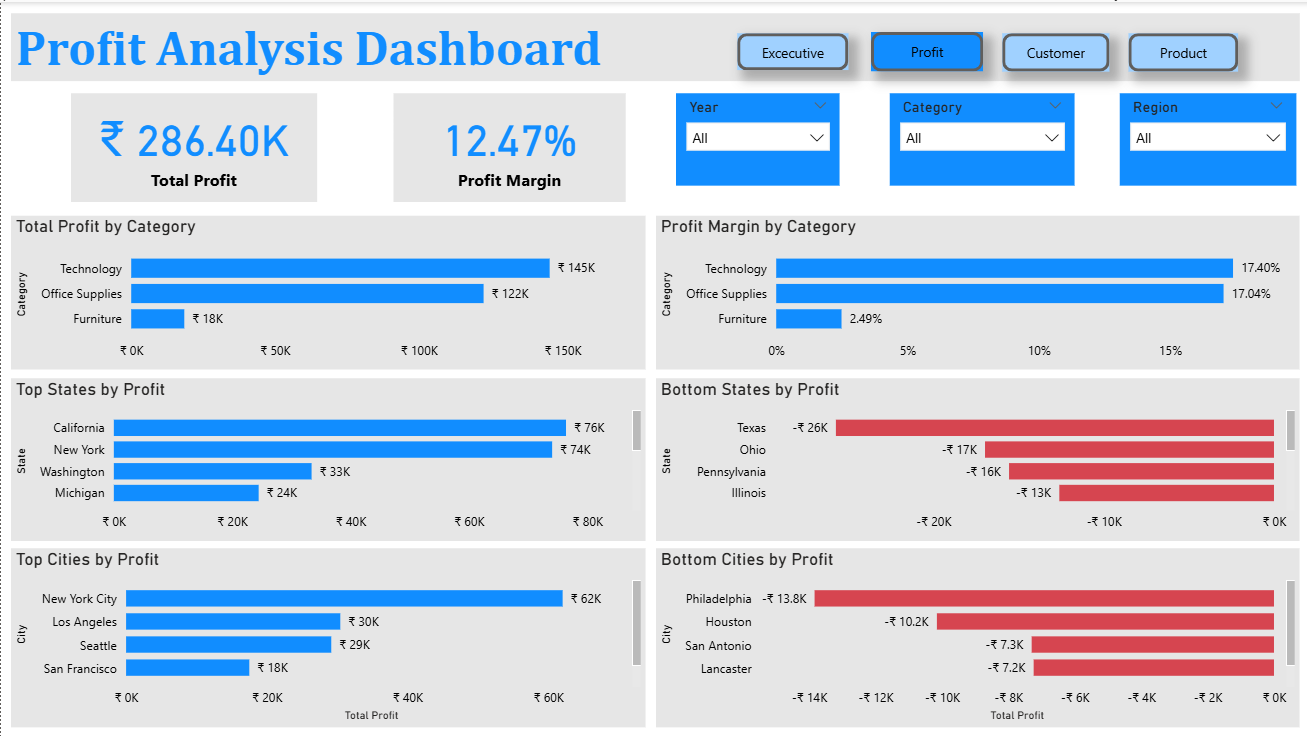

The page's visual inventory and layout, read from the dashboard file:
{"tool":"powerbi","page":{"name":"Page 2","canvas":[1280,720],"ordinal":1},"visuals":[{"type":"textbox","box":[9.8,11,1260.7,66],"z":0},{"type":"slicer","fields":{"Values":["superstore_final.Order Date.Variation.Date Hierarchy.Year"]},"box":[660.3,89.3,160.2,90.5],"z":1000},{"type":"slicer","fields":{"Values":["superstore_final.Region"]},"box":[1094.4,89.3,172.4,90.5],"z":2000},{"type":"slicer","fields":{"Values":["superstore_final.Category"]},"box":[869.4,89.3,181,90.5],"z":3000},{"type":"card","fields":{"Values":["superstore_final.Total Profit"]},"box":[68.5,89.3,240.9,106.4],"z":4000},{"type":"card","fields":{"Values":["superstore_final.Profit Margin"]},"box":[384,89.3,227.4,106.4],"z":5000},{"type":"clusteredBarChart","fields":{"Category":["superstore_final.Category"],"Y":["superstore_final.Total Profit"]},"box":[9.8,209.1,621.2,150.4],"z":6000},{"type":"clusteredBarChart","title":"Profit Margin by Category","fields":{"Category":["superstore_final.Category"],"Y":["superstore_final.Category Profit Margin"]},"box":[640.8,209.1,629.8,150.4],"z":7000},{"type":"clusteredBarChart","title":"Top States by Profit","fields":{"Category":["superstore_final.State"],"Y":["superstore_final.Total Profit"]},"box":[9.8,368.1,621.2,159],"z":8000},{"type":"clusteredBarChart","title":"Bottom States by Profit","fields":{"Category":["superstore_final.State"],"Y":["superstore_final.Total Profit"]},"box":[640.8,368.1,629.8,159],"z":9000},{"type":"clusteredBarChart","title":"Top Cities by Profit","fields":{"Category":["superstore_final.City"],"Y":["superstore_final.Total Profit"]},"box":[9.8,534.4,621.2,174.9],"z":10000},{"type":"clusteredBarChart","title":"Bottom Cities by Profit","fields":{"Category":["superstore_final.City"],"Y":["superstore_final.Total Profit"]},"box":[640.8,534.4,629.8,174.9],"z":11000},{"type":"actionButton","box":[1102.6,30.9,107.4,37.4],"z":11001},{"type":"actionButton","box":[850.5,29.7,109.8,38.6],"z":11002},{"type":"actionButton","box":[979.6,30.9,105,37.4],"z":11003},{"type":"actionButton","box":[720.2,30.9,108.6,36.2],"z":11004}]}

Visuals, with their boxes in screenshot pixels (x1, y1, x2, y2), scaled from the page's 1280x720 canvas onto the 1307x737 screenshot:
textbox: <bbox>10, 11, 1297, 79</bbox>
slicer - superstore_final.Order Date.Variation.Date Hierarchy.Year: <bbox>674, 91, 838, 184</bbox>
slicer - superstore_final.Region: <bbox>1117, 91, 1294, 184</bbox>
slicer - superstore_final.Category: <bbox>888, 91, 1073, 184</bbox>
card - superstore_final.Total Profit: <bbox>70, 91, 316, 200</bbox>
card - superstore_final.Profit Margin: <bbox>392, 91, 624, 200</bbox>
clusteredBarChart - superstore_final.Category x superstore_final.Total Profit: <bbox>10, 214, 644, 368</bbox>
"Profit Margin by Category" clusteredBarChart: <bbox>654, 214, 1297, 368</bbox>
"Top States by Profit" clusteredBarChart: <bbox>10, 377, 644, 540</bbox>
"Bottom States by Profit" clusteredBarChart: <bbox>654, 377, 1297, 540</bbox>
"Top Cities by Profit" clusteredBarChart: <bbox>10, 547, 644, 726</bbox>
"Bottom Cities by Profit" clusteredBarChart: <bbox>654, 547, 1297, 726</bbox>
actionButton: <bbox>1126, 32, 1236, 70</bbox>
actionButton: <bbox>868, 30, 981, 70</bbox>
actionButton: <bbox>1000, 32, 1107, 70</bbox>
actionButton: <bbox>735, 32, 846, 69</bbox>
